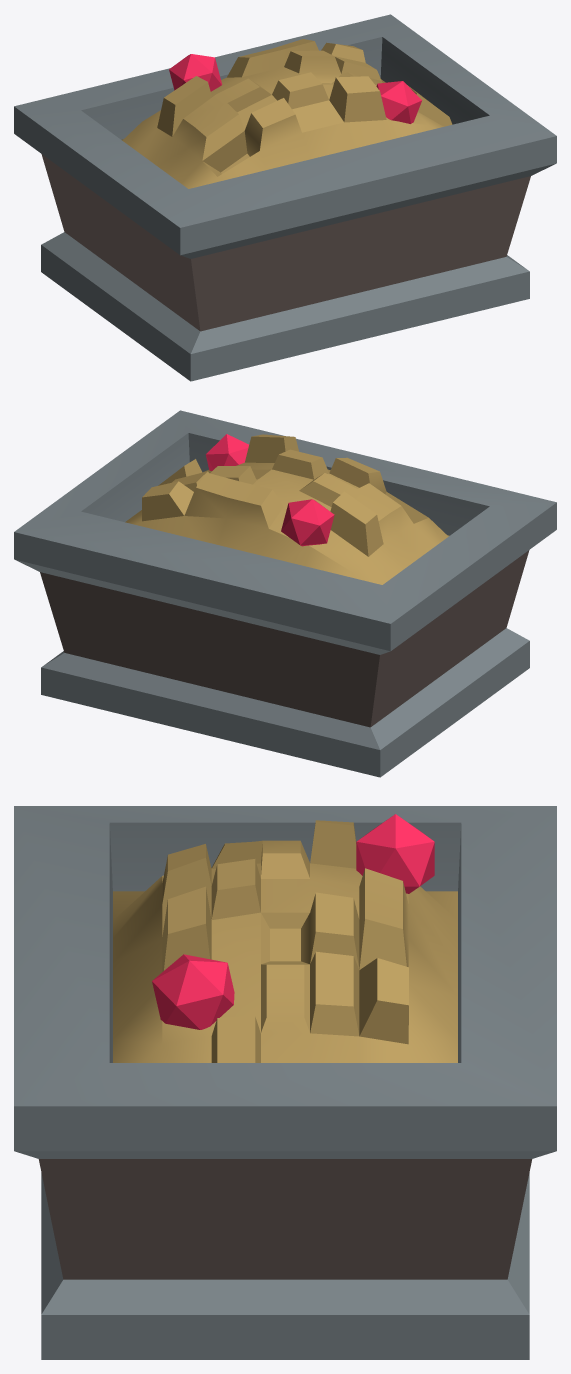
File: kaykit-chest-common.glb
3 views of the same model, one above another, from view 1: azimuth 30°, elevation 25°; view 2: azimuth 150°, elevation 25°; view 3: azimuth 270°, elevation 25° (orthographic). The views are drawn at different scales.
Visible parts, largest first — view 1: chest_common; view 2: chest_common; view 3: chest_common.
Boxes of the visible parts, bbox=[...] form: chest_common: bbox=[14, 14, 556, 381]; chest_common: bbox=[14, 410, 556, 777]; chest_common: bbox=[14, 806, 556, 1359].
Size of the model in its own units: 1.44 by 0.8099 by 1.1.
